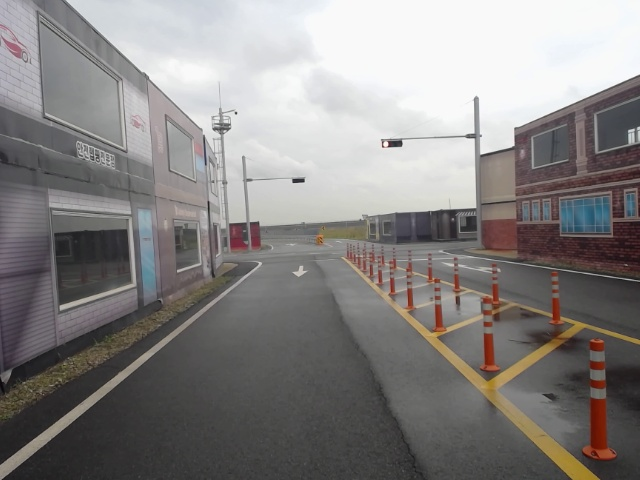red_3: (381, 138, 404, 148)
